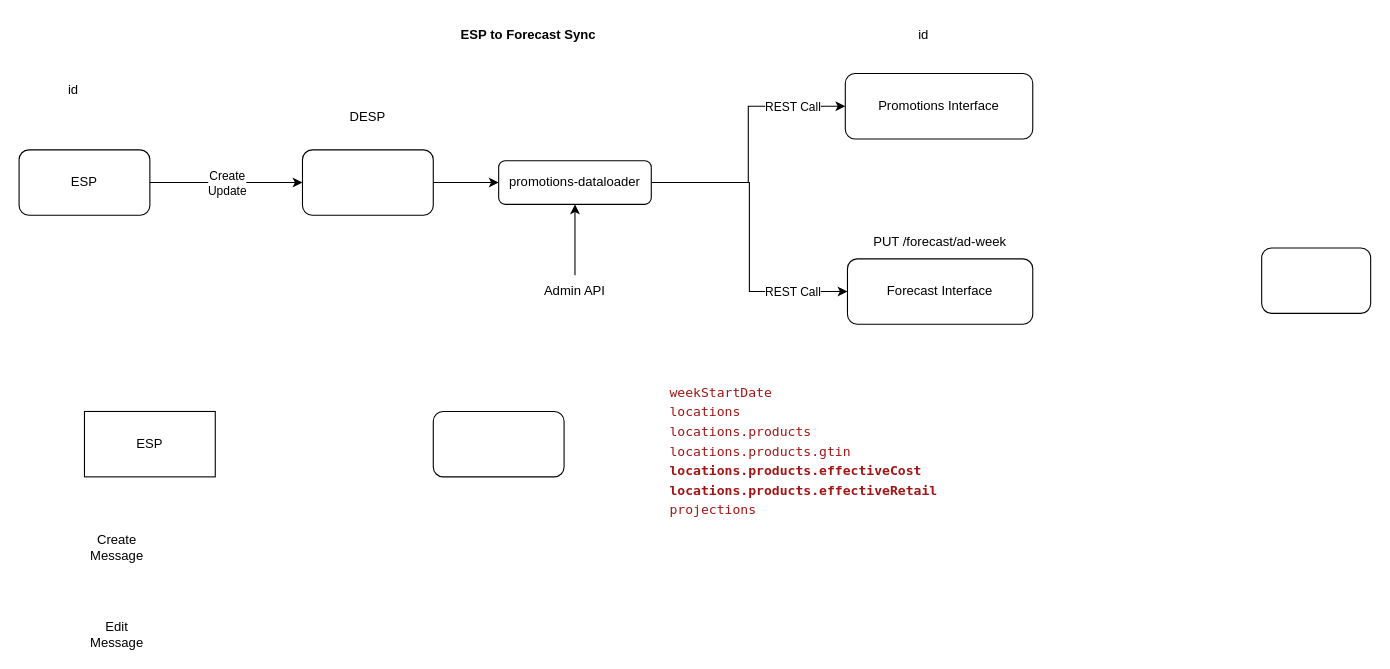
This 1390x669 diagram has some shape labels left out. Each missing label, with the box of its shape:
Forecast - Ad Week: (432, 410, 564, 477)
Kafka Topic Promotions Details: (301, 149, 433, 215)
Sales History Data: (1261, 247, 1371, 313)
